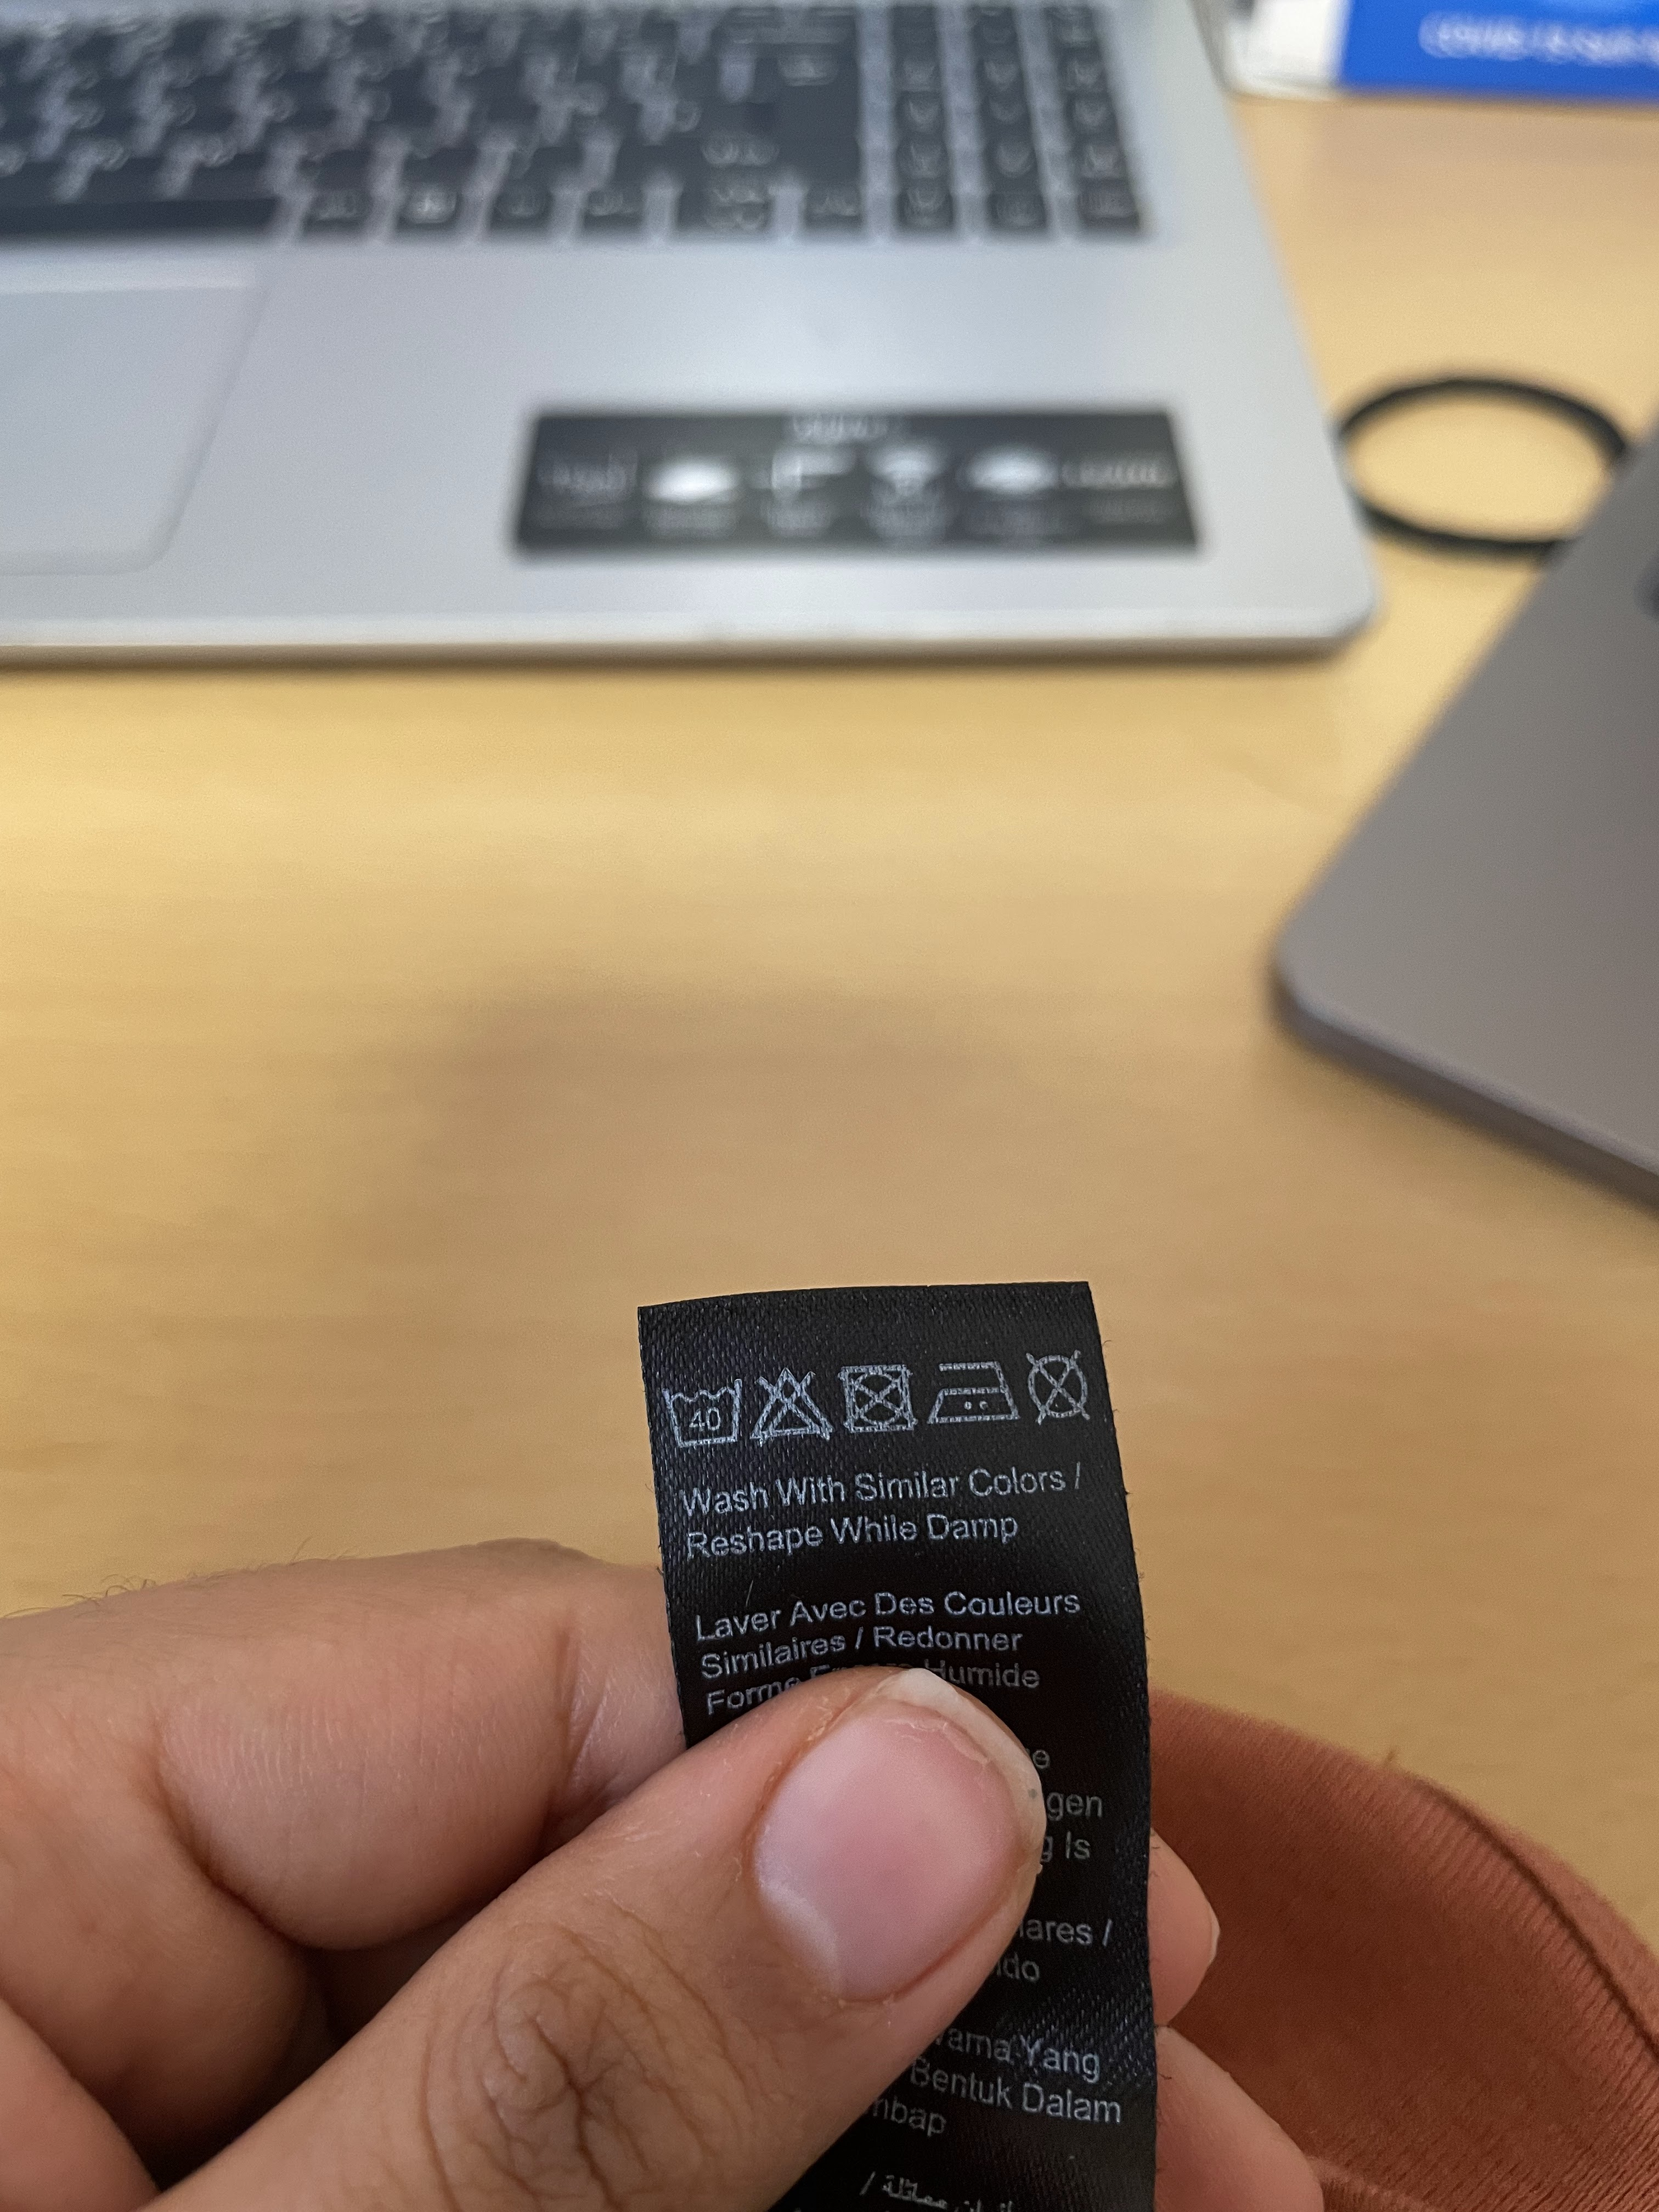do not bleach: (735, 1353, 854, 1456)
do not dry clean: (1016, 1336, 1098, 1440)
do not tumble dry: (840, 1339, 922, 1453)
iron medium temp: (927, 1355, 1028, 1446)
wash at or below 40: (657, 1371, 755, 1475)
